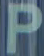Parking: (3, 1, 43, 52)
